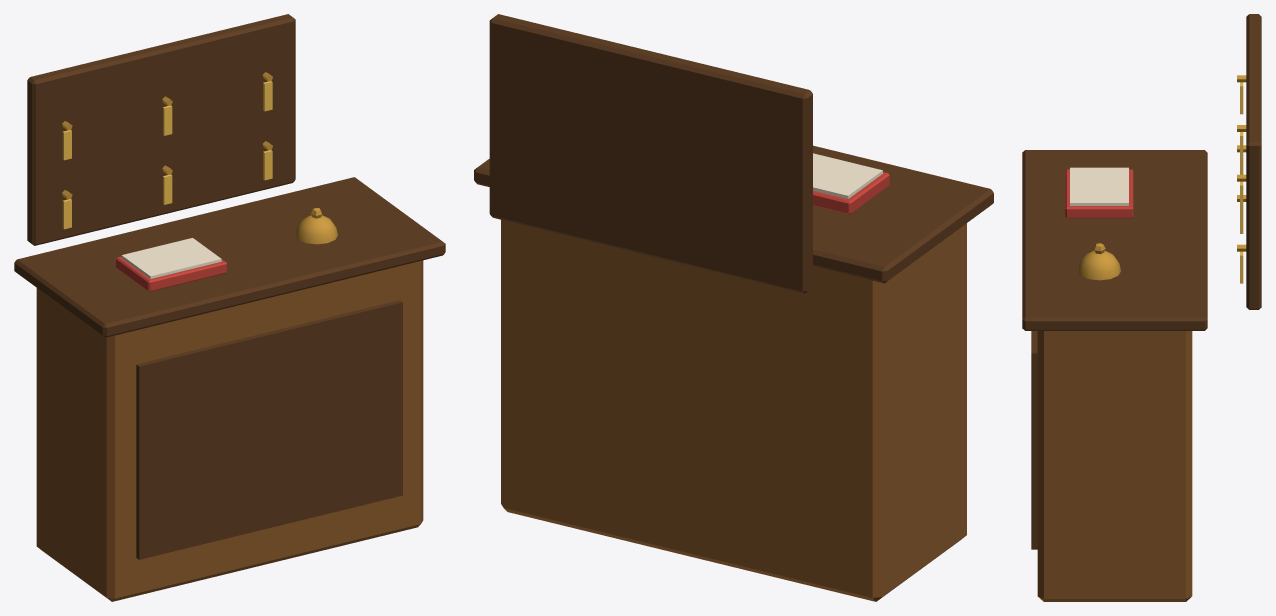
File: PR_Furniture_Resepsiyon.fbx
3 views of the same model, side by side, from view 1: azimuth 30°, elevation 25°; view 2: azimuth 150°, elevation 25°; view 3: azimuth 270°, elevation 25° (orthographic). The views are drawn at different scales.
Parts seen in each view (by area): view 1: PR_Furniture_Resepsiyon; view 2: PR_Furniture_Resepsiyon; view 3: PR_Furniture_Resepsiyon.
Boxes of the visible parts, x1,y1,x2,y2 form: PR_Furniture_Resepsiyon: (14,14,445,601); PR_Furniture_Resepsiyon: (474,14,993,601); PR_Furniture_Resepsiyon: (1022,14,1261,601).
Size of the model in its own units: 1.3 by 1.6 by 0.775.
Materials: 1 (1 with a texture image).
